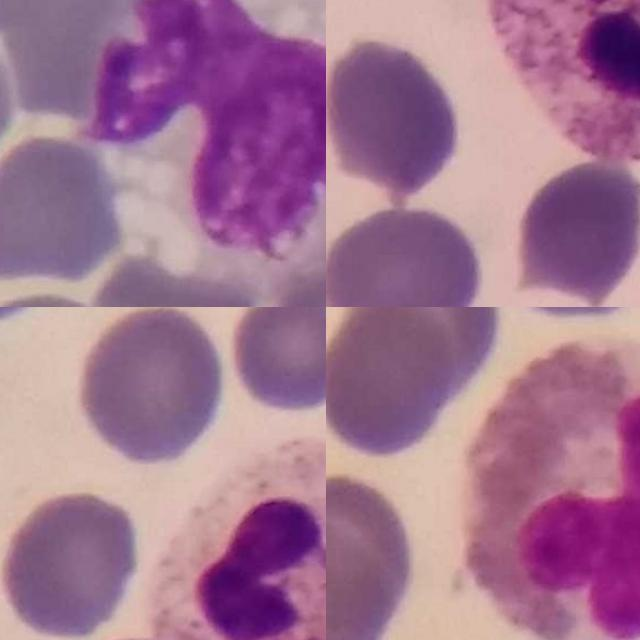Eosinophil: (458, 338, 640, 640)
Monocyte: (88, 0, 326, 272)
Neutrophil: (157, 439, 326, 640), (482, 0, 640, 158)
